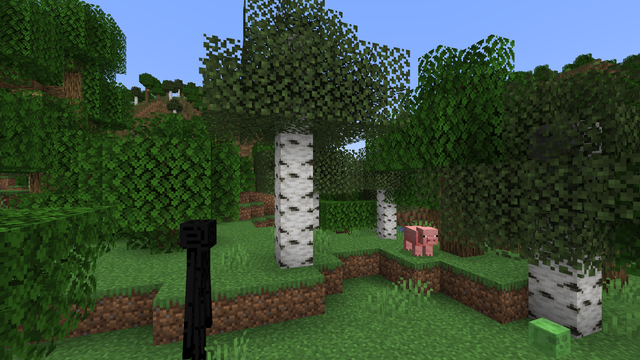cochons: (399, 224, 436, 256)
endermens: (178, 214, 215, 359)
slimes: (527, 316, 571, 359)
